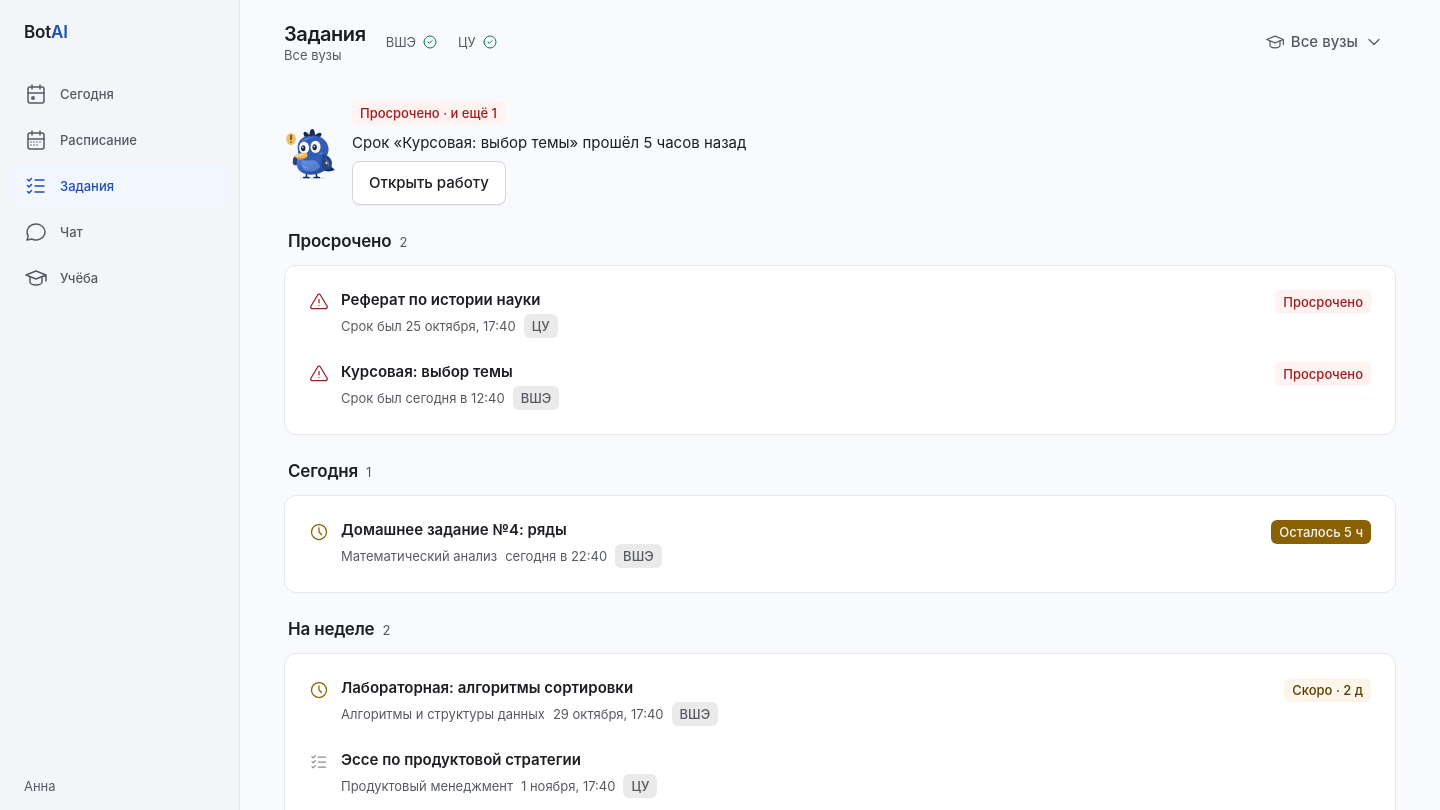
Test case: «Задания»: группы и срочность › карточка: срок, статус, предмет, источник со временем получения и ссылка на условие
The image size is (1440, 810).
Click the button that starts with "Лабораторная: алгоритмы сортировки": click(487, 688) [297, 666, 1383, 738]
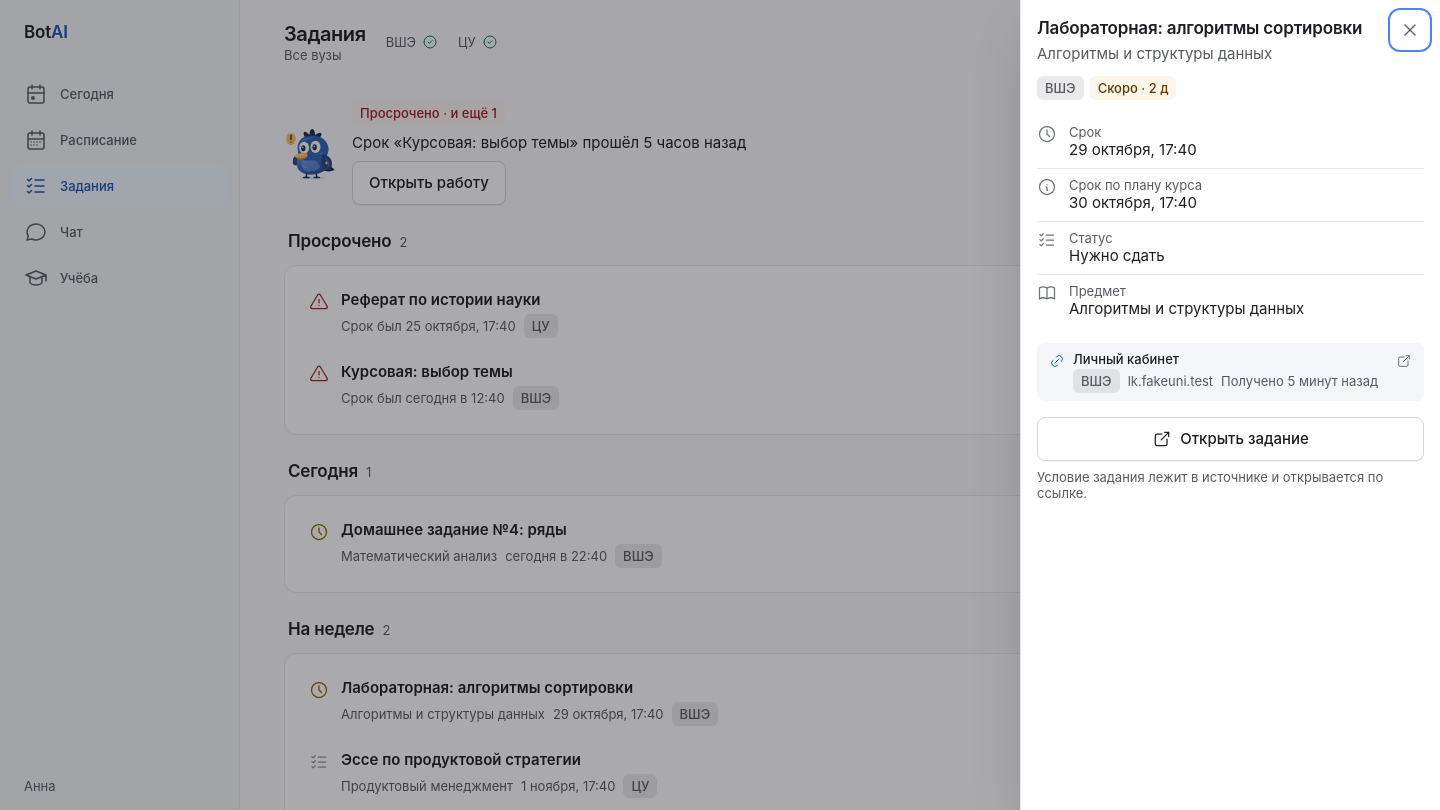
Check: the text "Нужно сдать" is shown, box [1069, 246, 1165, 265]
Check: the 1st text "Алгоритмы и структуры данных" is shown, box [1037, 44, 1272, 63]
Check: the text "Срок по плану курса" is shown, box [1069, 177, 1202, 193]
